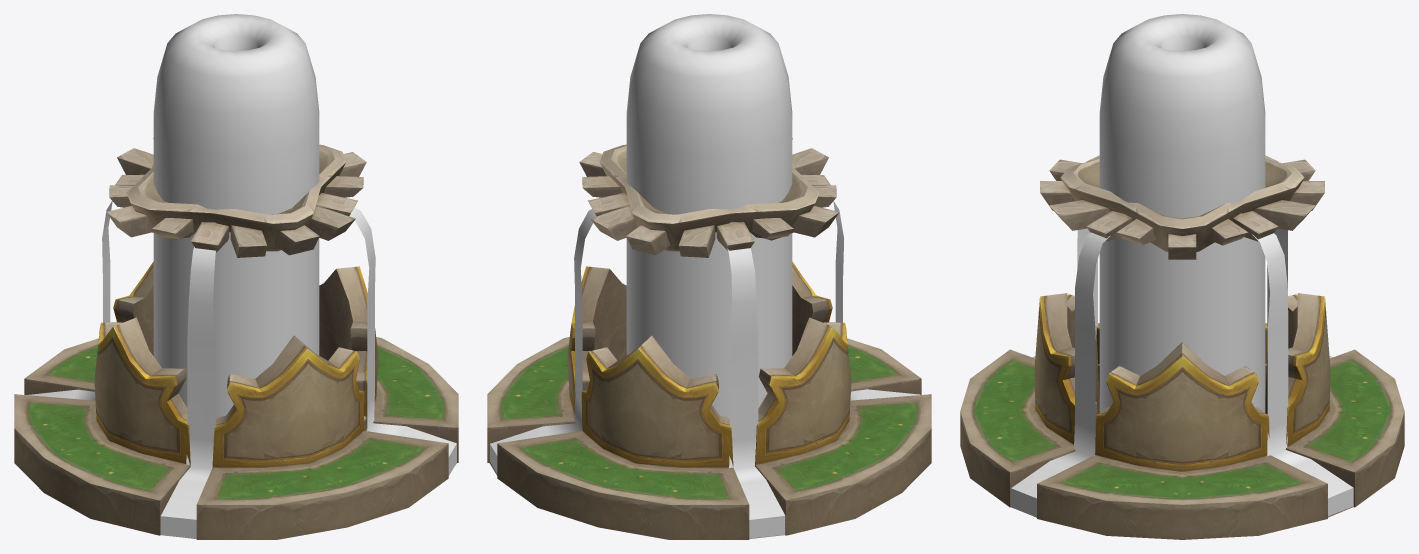
File: Fx_t_shuimian_4.FBX
3 views of the same model, side by side, from view 1: azimuth 30°, elevation 25°; view 2: azimuth 150°, elevation 25°; view 3: azimuth 270°, elevation 25° (orthographic).
Parts seen in each view (by area): view 1: t_penquan, Cylinder001, Object001; view 2: t_penquan, Cylinder001, Object001; view 3: t_penquan, Cylinder001, Object001.
Part boxes in pixels (x1,y1,x2,y2): t_penquan: [14, 138, 458, 539]; Cylinder001: [153, 14, 319, 417]; Object001: [26, 201, 456, 538]; t_penquan: [487, 138, 931, 539]; Cylinder001: [626, 14, 792, 417]; Object001: [490, 201, 919, 538]; t_penquan: [960, 155, 1404, 539]; Cylinder001: [1099, 14, 1265, 412]; Object001: [1011, 228, 1353, 517].
Bounding box in the file's own units: 459 × 468 × 459.
